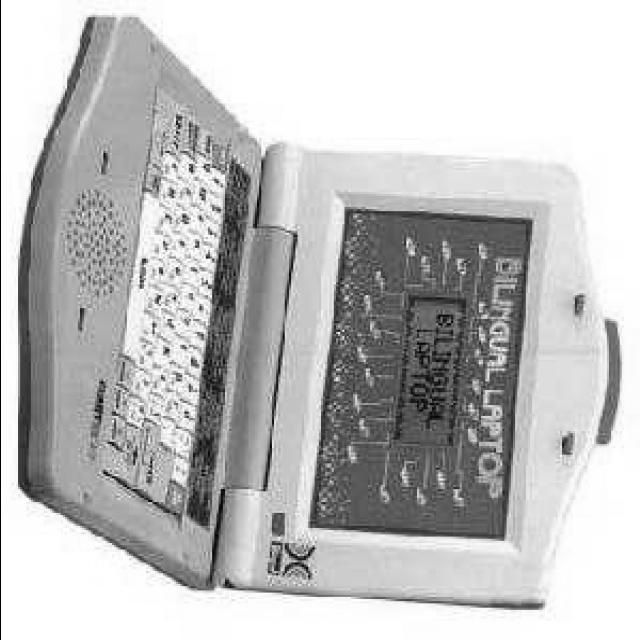laptop: (42, 142, 554, 596)
